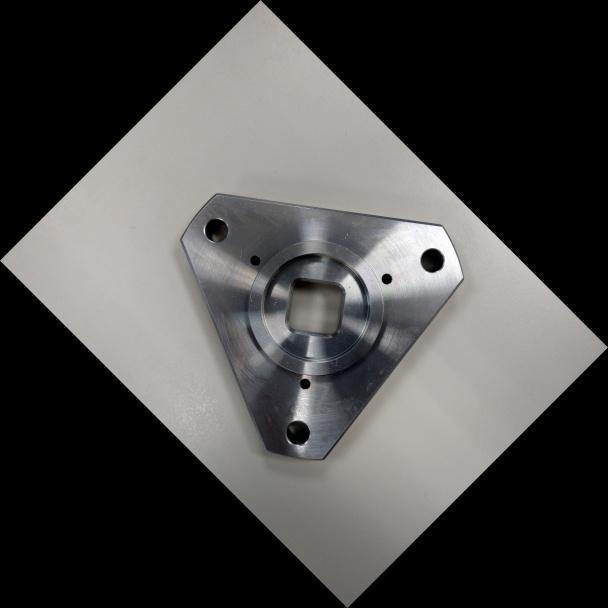hole: (276, 410, 318, 453), (194, 209, 236, 251), (411, 239, 453, 281), (294, 373, 316, 395), (245, 250, 265, 270), (377, 269, 396, 288)
